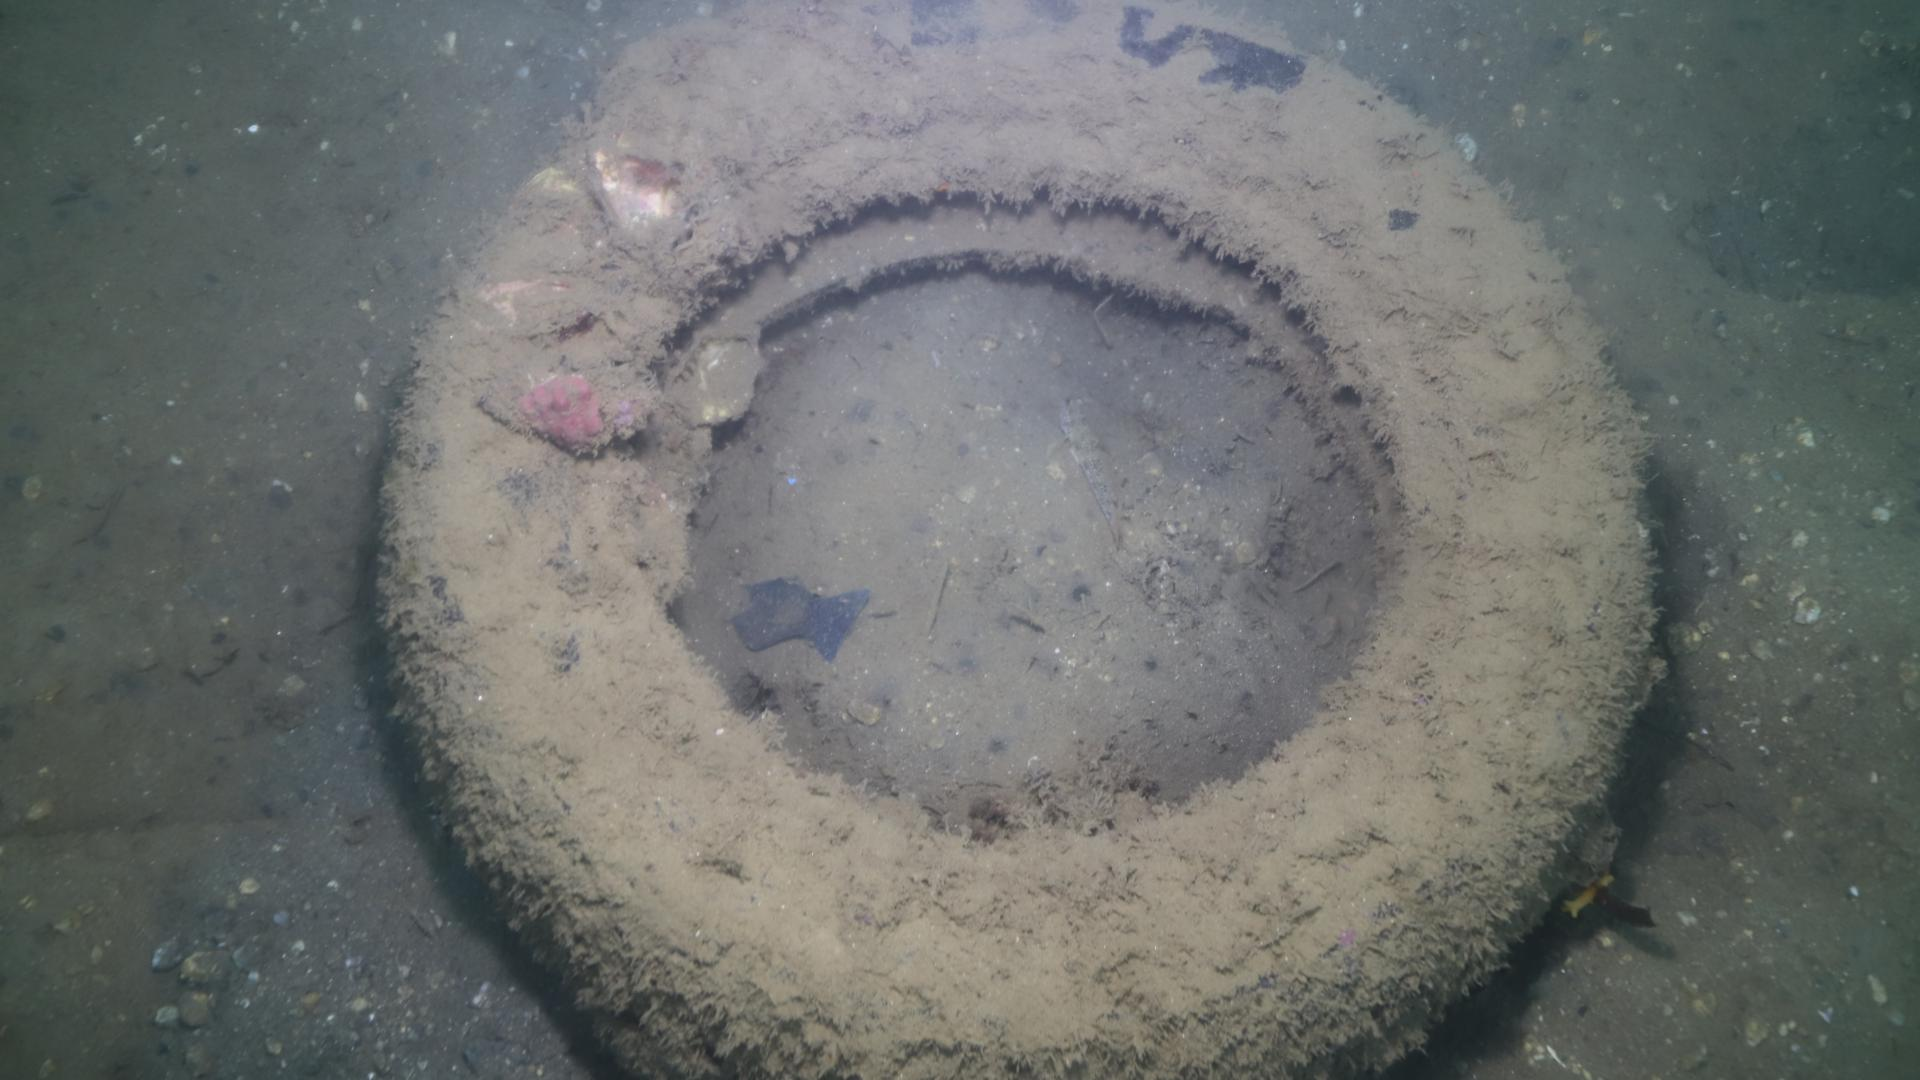tire: (372, 1, 1658, 1080)
